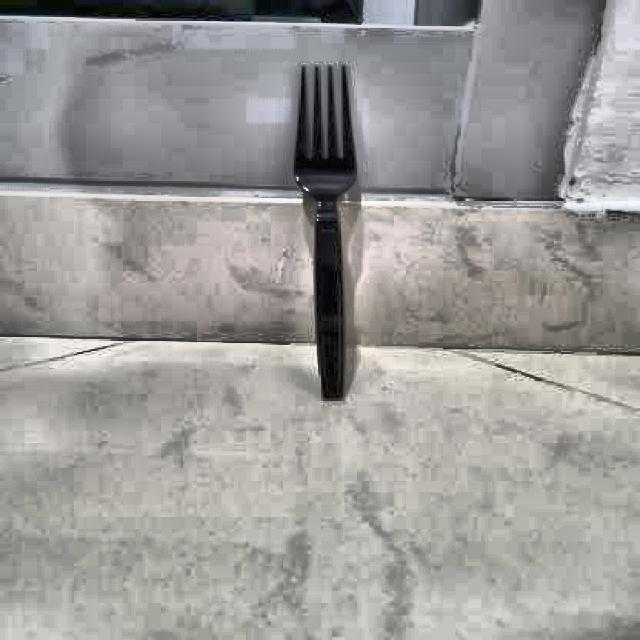plastic utensil: (286, 60, 365, 406)
